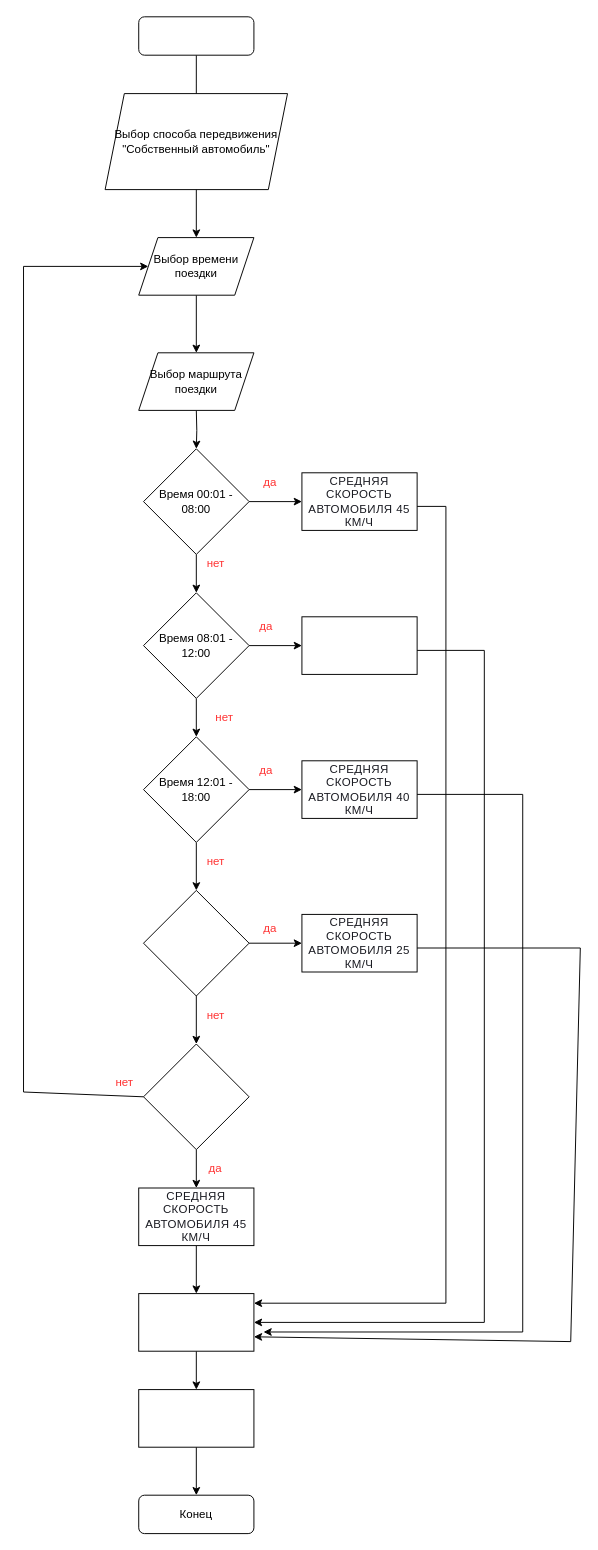
This 598x1550 diagram has some shape labels left out. The centre of each missing label's shape, as x and y in pixels:
"Время 18:01 - 22:00" belongs at point (196, 942).
"Время 22:01 - 00:00" belongs at point (196, 1096).
"Начало" belongs at point (196, 35).
"Расчет времени поездки" belongs at point (196, 1322).
"Расчет стоимости поездки" belongs at point (196, 1418).
"СРЕДНЯЯ СКОРОСТЬ АВТОМОБИЛЯ 30 КМ/Ч" belongs at point (359, 645).
